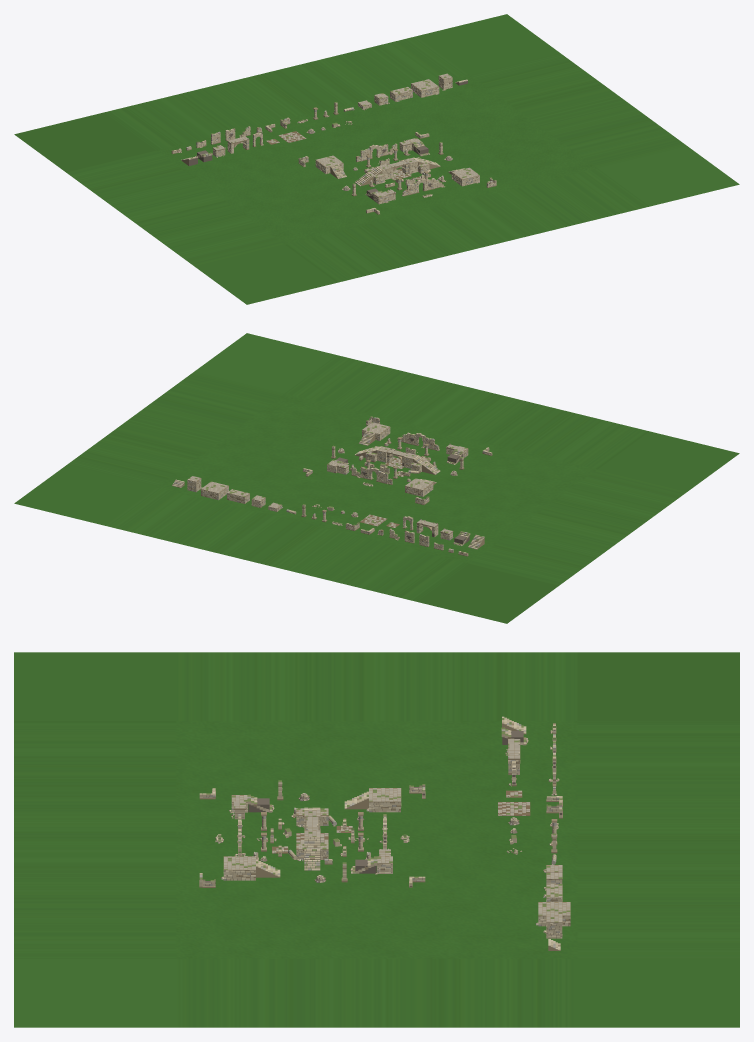
The model's file is ruin-demo.glb.
3 views of the same model, one above another, from view 1: azimuth 30°, elevation 25°; view 2: azimuth 150°, elevation 25°; view 3: azimuth 270°, elevation 25° (orthographic). The views are drawn at different scales.
Parts seen in each view (by area): view 1: ground; view 2: ground; view 3: ground, r_plat_8x8_3 (×3).
Boxes of the visible parts, x1,y1,x2,y2 form: ground: (14,14,739,304); ground: (14,333,739,623); ground: (14,652,739,1027); r_plat_8x8_3 (×3): (221,788,570,926).
Bounding box in the file's own units: 220 × 5.31 × 180.
